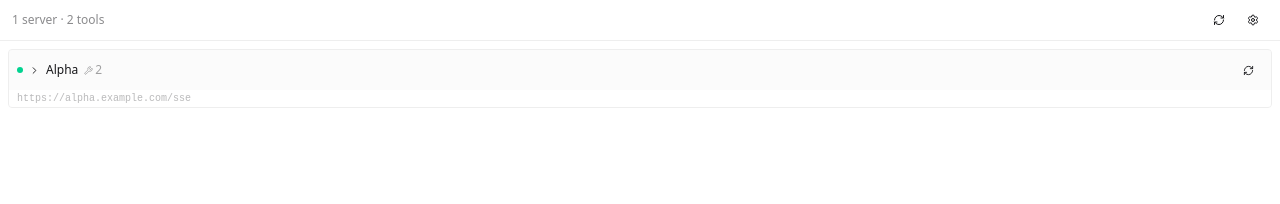
Scenario: MCPPanel › loads tools on expansion and strips backend MCP prefixes from tool names
Click the button "Alpha 2".
click(62, 70)  # box [17,62,1226,78]
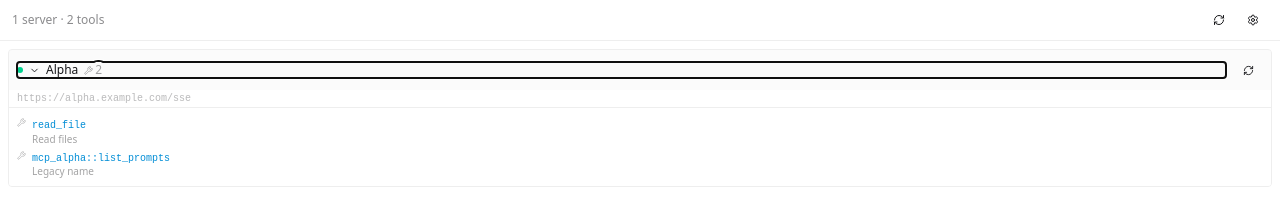
Check: the text "mcp_alpha::list_prompts" is shown, box [32,153,170,164]
Check: the text "read_file" is shown, box [32,120,86,131]
